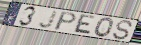3: (18, 6, 40, 27)
E: (72, 14, 97, 36)
J: (38, 10, 60, 29)
O: (93, 17, 115, 39)
P: (53, 11, 78, 32)
S: (111, 20, 133, 41)
